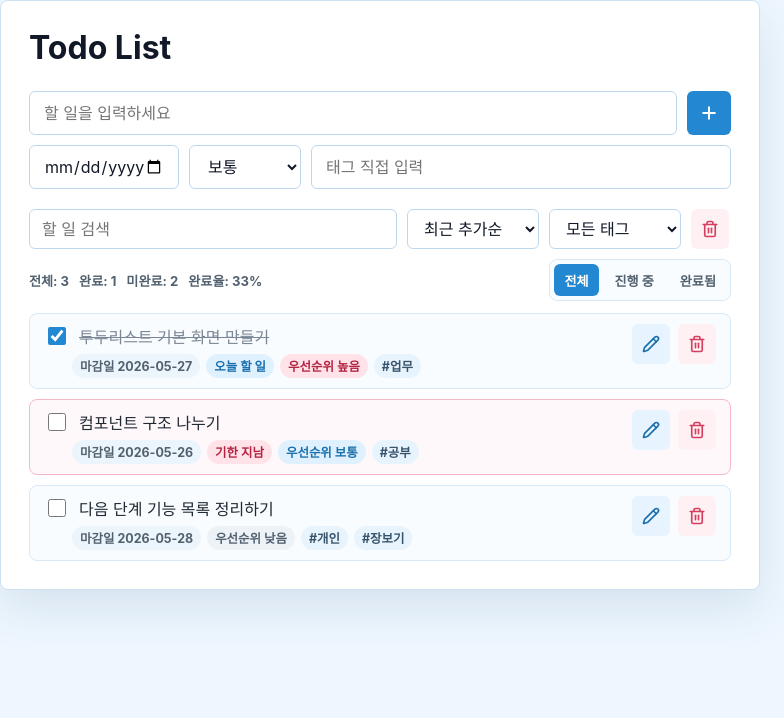
TodoApp › 할 일 추가 시 마감일과 우선순위를 선택할 수 있다.
The image size is (784, 718).
Type "마감일 있는 할 일" into the field named "할 일 입력" at {"x": 353, "y": 113}, box 29,91 -> 677,135
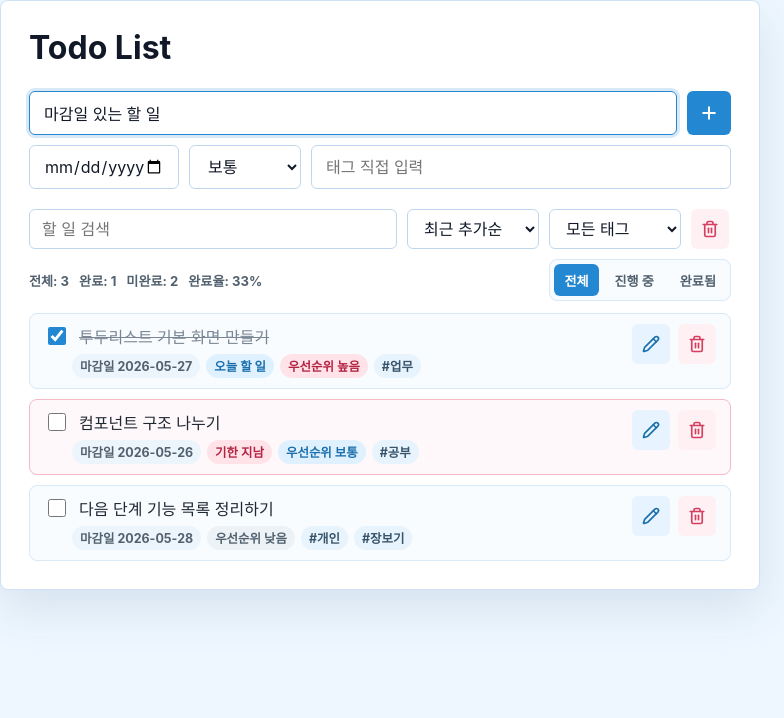
Type "2026-05-27" into the date field named "마감일" at {"x": 104, "y": 167}, box 29,145 -> 179,189
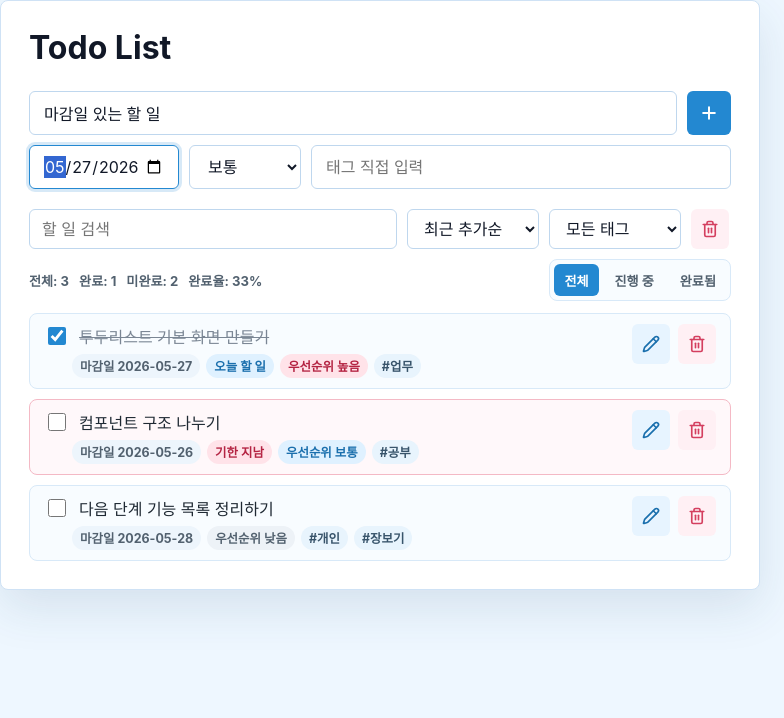
Select "높음" in the 1st dropdown named "우선순위" at {"x": 245, "y": 167}, box 189,145 -> 301,189
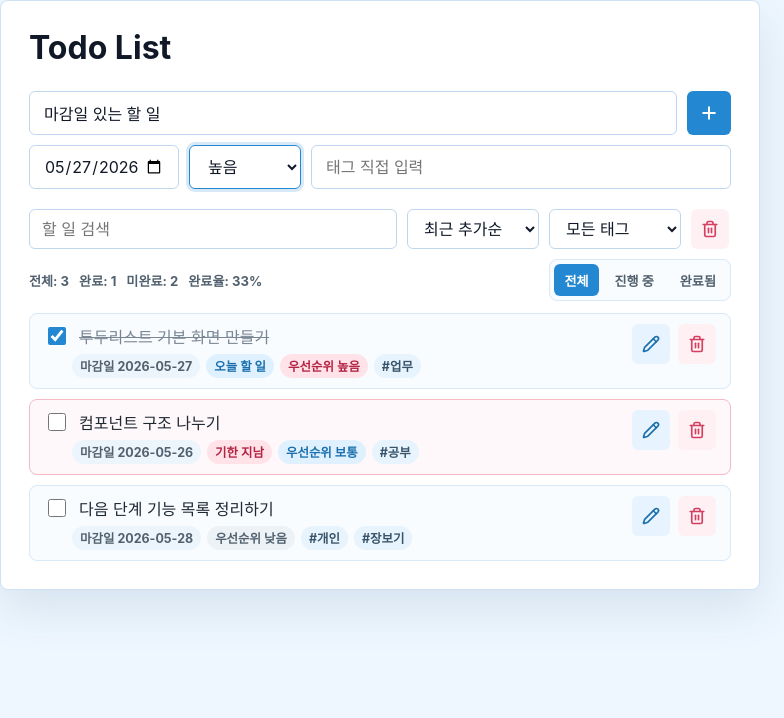
Click the button named "할 일 추가" at {"x": 709, "y": 113}, box 687,91 -> 731,135
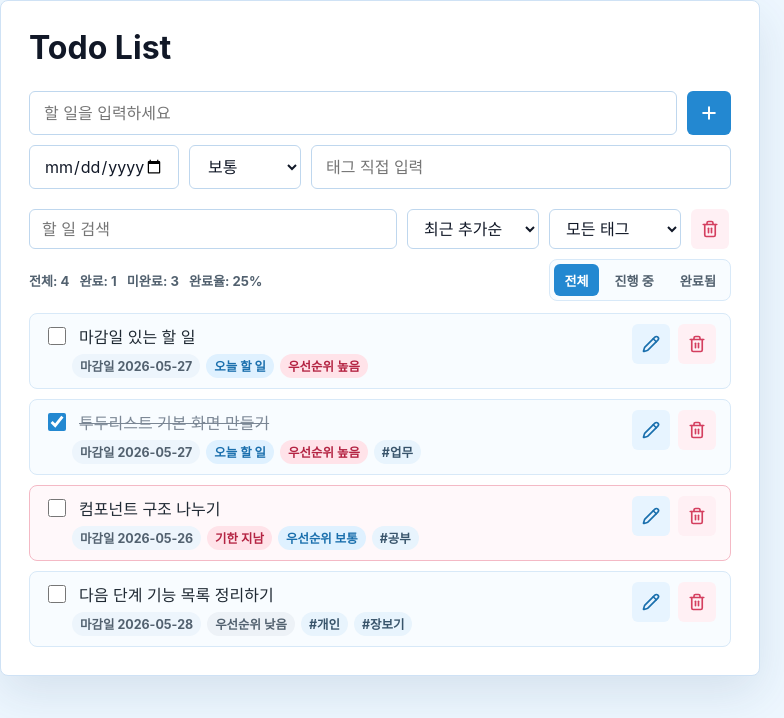
Check: the text "마감일 있는 할 일" is shown, box 79,324 -> 196,348
Check: the text "오늘 할 일" is shown 2 times, box 206,354 -> 274,378; 206,440 -> 274,464
Check: the text "우선순위 높음" is shown 2 times, box 280,354 -> 368,378; 280,440 -> 368,464
